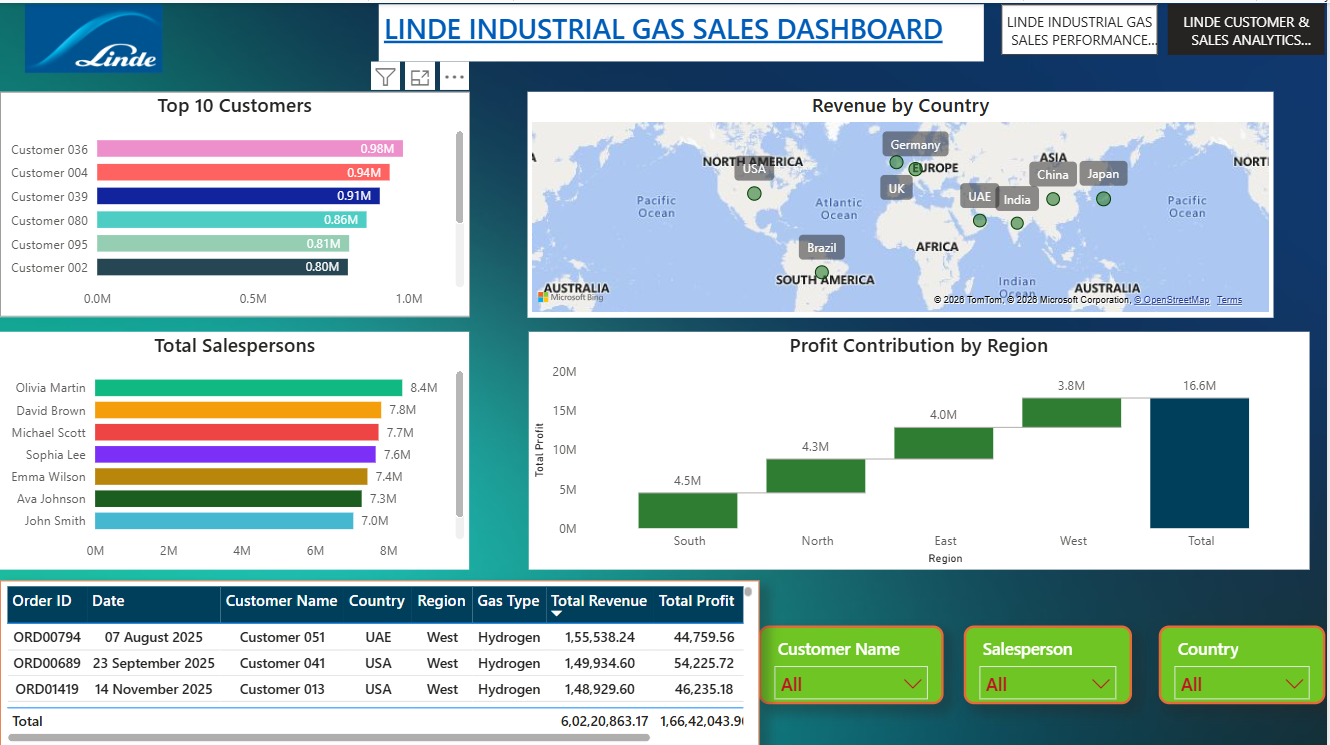

This screenshot's page, from the dashboard's own definition file:
{"tool":"powerbi","page":{"name":"LINDE CUSTOMER & SALES ANALYTICS DASHBOARD","canvas":[1280,720],"ordinal":1},"visuals":[{"type":"textbox","box":[365,1.4,584.3,54.8],"z":0},{"type":"image","box":[10.1,1.4,161.6,66.4],"z":1000},{"type":"clusteredBarChart","title":"Top 10 Customers","fields":{"Category":["Sales.Customer Name"],"Y":["Sales.Total Revenue"]},"box":[0,85.7,453.6,218.4],"z":2000},{"type":"clusteredBarChart","title":"Total Salespersons","fields":{"Category":["Sales.Salesperson"],"Y":["Sales.Total Revenue"]},"box":[0,317.4,453,229.4],"z":3000},{"type":"slicer","fields":{"Values":["Sales.Customer Name"]},"box":[732.7,601.1,178.4,76.1],"z":4000},{"type":"slicer","fields":{"Values":["Sales.Salesperson"]},"box":[930.2,601.1,162.3,76.1],"z":5000},{"type":"slicer","fields":{"Values":["Sales.Country"]},"box":[1118.8,601.1,160.9,76.1],"z":6000},{"type":"map","title":"Revenue by Country","fields":{"Category":["Sales.Country"],"Size":["Sales.Total Revenue"]},"box":[509.3,85.1,719.9,217.9],"z":7000},{"type":"waterfallChart","title":"Profit Contribution by Region","fields":{"Category":["Sales.Region"],"Y":["Sales.Total Profit"]},"box":[510.4,317.4,753.2,229.6],"z":8000},{"type":"tableEx","fields":{"Values":["Sales.Order ID","Sales.Date","Sales.Customer Name","Sales.Country","Sales.Region","Sales.Gas Type","Sales.Total Revenue","Sales.Total Profit","Sales.Salesperson"]},"box":[0,557.2,732.7,162.3],"z":9000},{"type":"pageNavigator","box":[966.7,1.4,313.1,49.1],"z":10000}]}

Visuals, with their boxes in screenshot pixels (x1, y1, x2, y2), scaled from the page's 1280x720 canvas onto the 1330x745 screenshot:
textbox: [x1=379, y1=1, x2=986, y2=58]
image: [x1=10, y1=1, x2=178, y2=70]
"Top 10 Customers" clusteredBarChart: [x1=0, y1=89, x2=471, y2=315]
"Total Salespersons" clusteredBarChart: [x1=0, y1=328, x2=471, y2=566]
slicer - Sales.Customer Name: [x1=761, y1=622, x2=947, y2=701]
slicer - Sales.Salesperson: [x1=967, y1=622, x2=1135, y2=701]
slicer - Sales.Country: [x1=1163, y1=622, x2=1329, y2=701]
"Revenue by Country" map: [x1=529, y1=88, x2=1277, y2=314]
"Profit Contribution by Region" waterfallChart: [x1=530, y1=328, x2=1313, y2=566]
tableEx - Sales.Order ID x Sales.Date: [x1=0, y1=577, x2=761, y2=744]
pageNavigator: [x1=1004, y1=1, x2=1329, y2=52]
